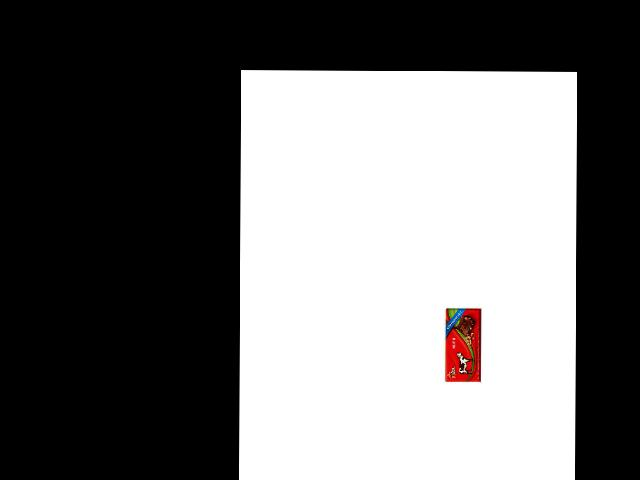chocolate: (445, 308, 480, 385)
